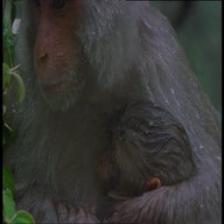monkey: (7, 3, 99, 122), (89, 124, 129, 216)
